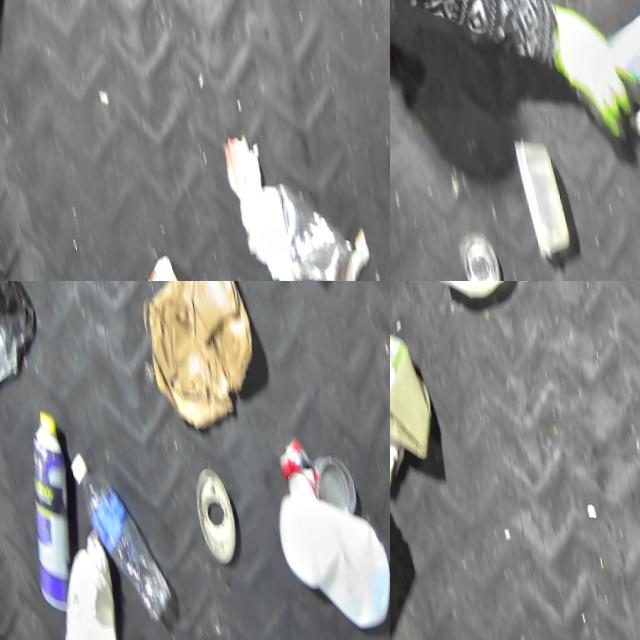can: (259, 171, 346, 281), (176, 463, 230, 566), (299, 449, 348, 517), (439, 225, 496, 281), (262, 433, 312, 496), (619, 83, 640, 182)
milk_jug: (253, 464, 388, 636), (25, 524, 112, 640)
plastic_bottle: (54, 445, 163, 625)
